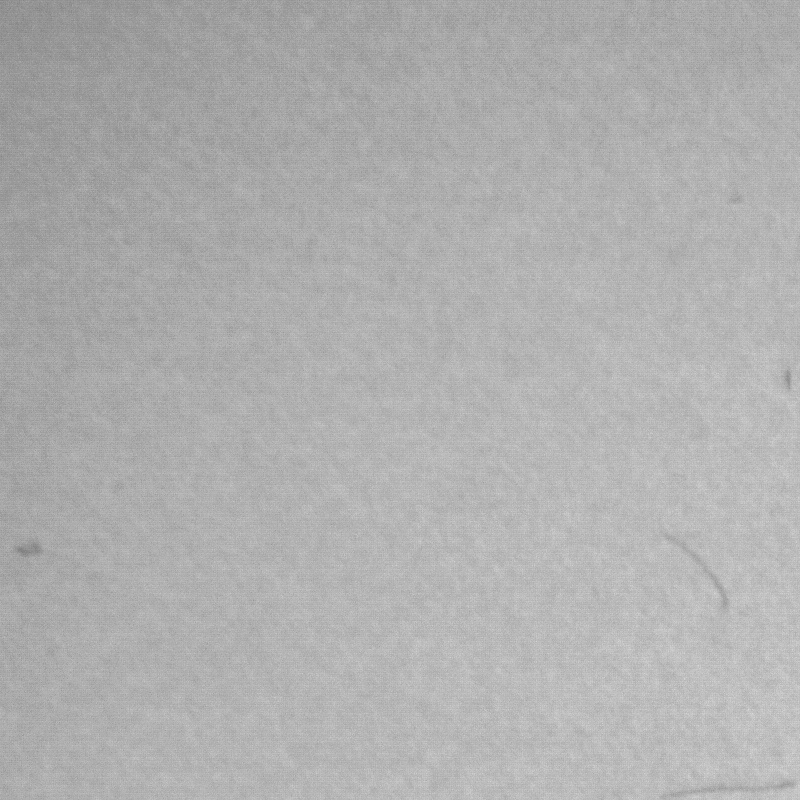defect: (668, 533, 730, 610), (16, 542, 46, 561), (779, 366, 796, 395)
